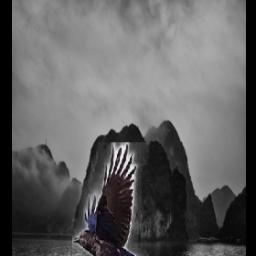Crow: (72, 143, 149, 256)
